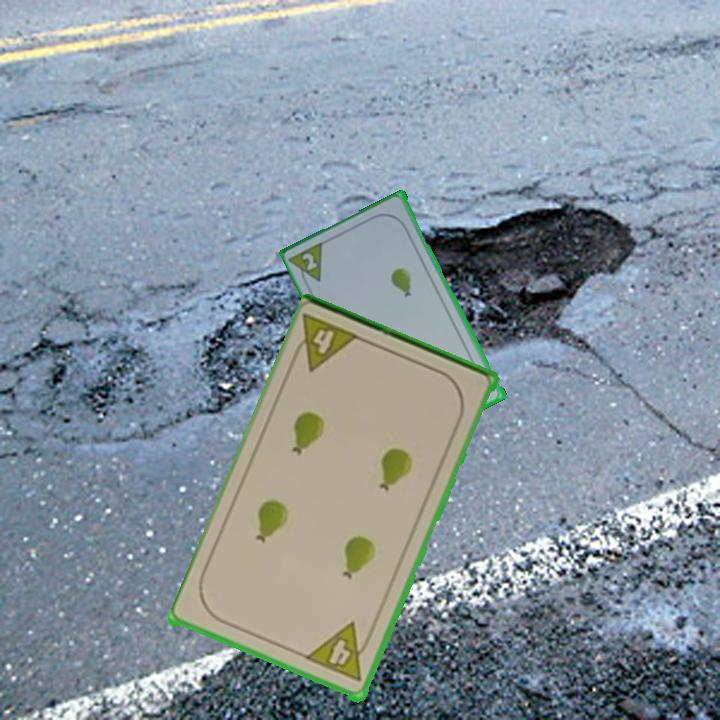2p: (299, 249, 321, 273)
4p: (286, 310, 365, 376), (303, 620, 376, 685)
